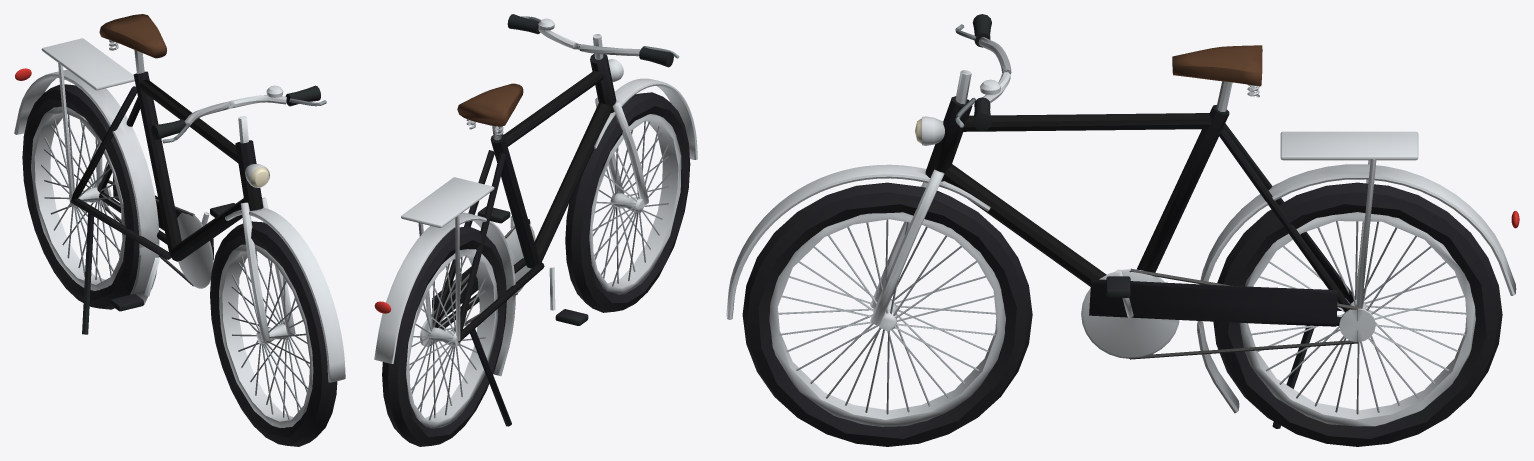
The model's file is veh-roadster.glb.
3 views of the same model, side by side, from view 1: azimuth 30°, elevation 25°; view 2: azimuth 150°, elevation 25°; view 3: azimuth 270°, elevation 25° (orthographic). The views are drawn at different scales.
Parts seen in each view (by area): view 1: body, wheel0, wheel1; view 2: body, wheel0, wheel1; view 3: body, wheel0, wheel1.
Boxes of the visible parts, <box> form: body: <box>14,14,345,382</box>; wheel0: <box>210,221,337,446</box>; wheel1: <box>22,84,139,309</box>; body: <box>374,14,697,426</box>; wheel0: <box>565,92,690,312</box>; wheel1: <box>382,226,506,446</box>; body: <box>726,14,1519,428</box>; wheel0: <box>742,182,1032,446</box>; wheel1: <box>1213,182,1502,446</box>.
Size of the model in its own units: 0.59 by 1.08 by 1.96.
